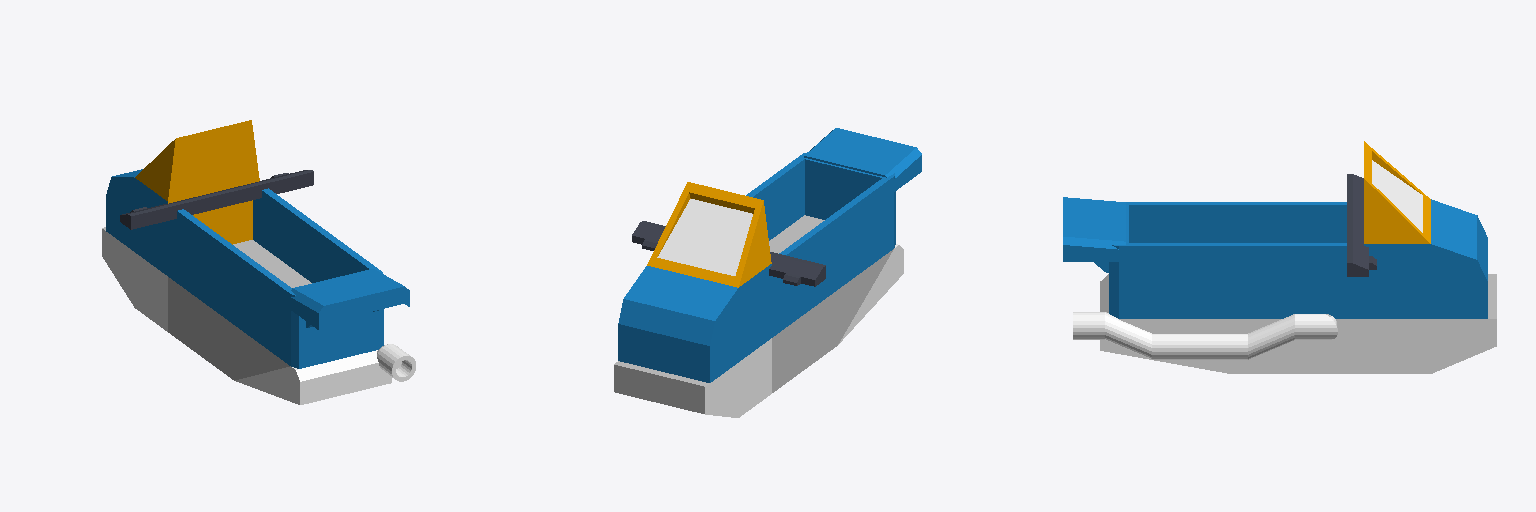
Rendered from Bike01.obj.
3 views of the same model, side by side, from view 1: azimuth 30°, elevation 25°; view 2: azimuth 150°, elevation 25°; view 3: azimuth 270°, elevation 25° (orthographic).
Visible parts, largest first — view 1: Bike01; view 2: Bike01; view 3: Bike01.
Part boxes in pixels (x1,y1,x2,y2): Bike01: (102,120,415,404); Bike01: (614,128,921,417); Bike01: (1063,141,1496,373).
Bounding box in the file's own units: 0.8 × 0.8 × 1.64.